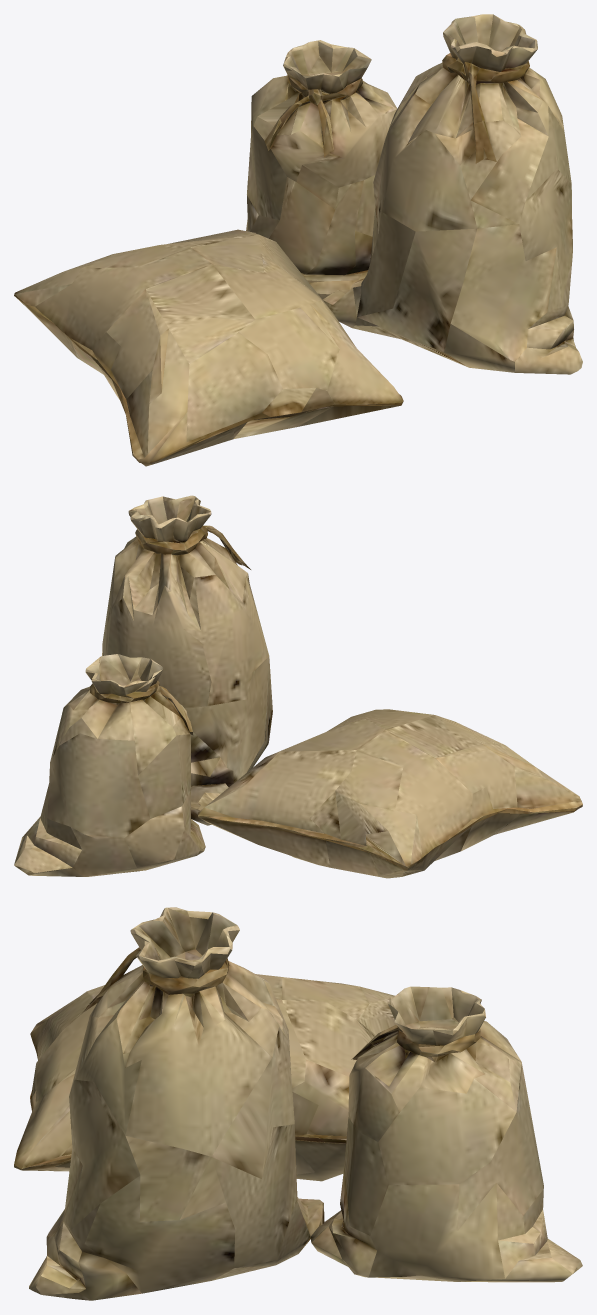
File: sacks.lod1.glb
3 views of the same model, one above another, from view 1: azimuth 30°, elevation 25°; view 2: azimuth 150°, elevation 25°; view 3: azimuth 270°, elevation 25° (orthographic). The views are drawn at different scales.
Size of the model in its own units: 1.24 by 0.75 by 1.1.
Materials: 1 (1 with a texture image).
